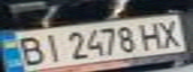2: (63, 27, 87, 61)
4: (84, 25, 106, 57)
7: (100, 25, 121, 56)
8: (115, 22, 142, 54)
B: (9, 34, 48, 68)
H: (136, 19, 166, 51)
I: (36, 30, 66, 63)
X: (151, 17, 187, 48)
